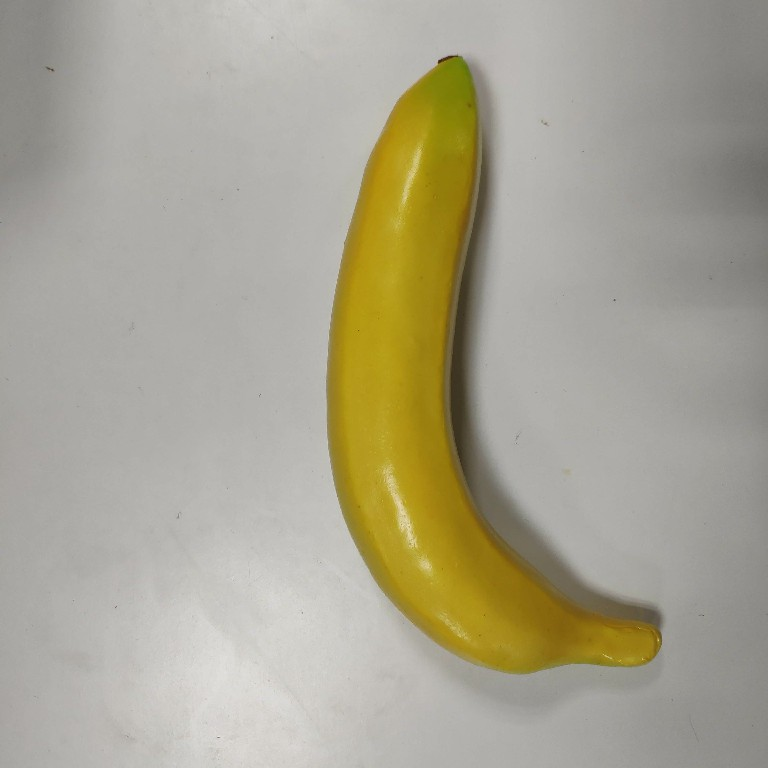fruit_banana: (324, 51, 666, 678)
